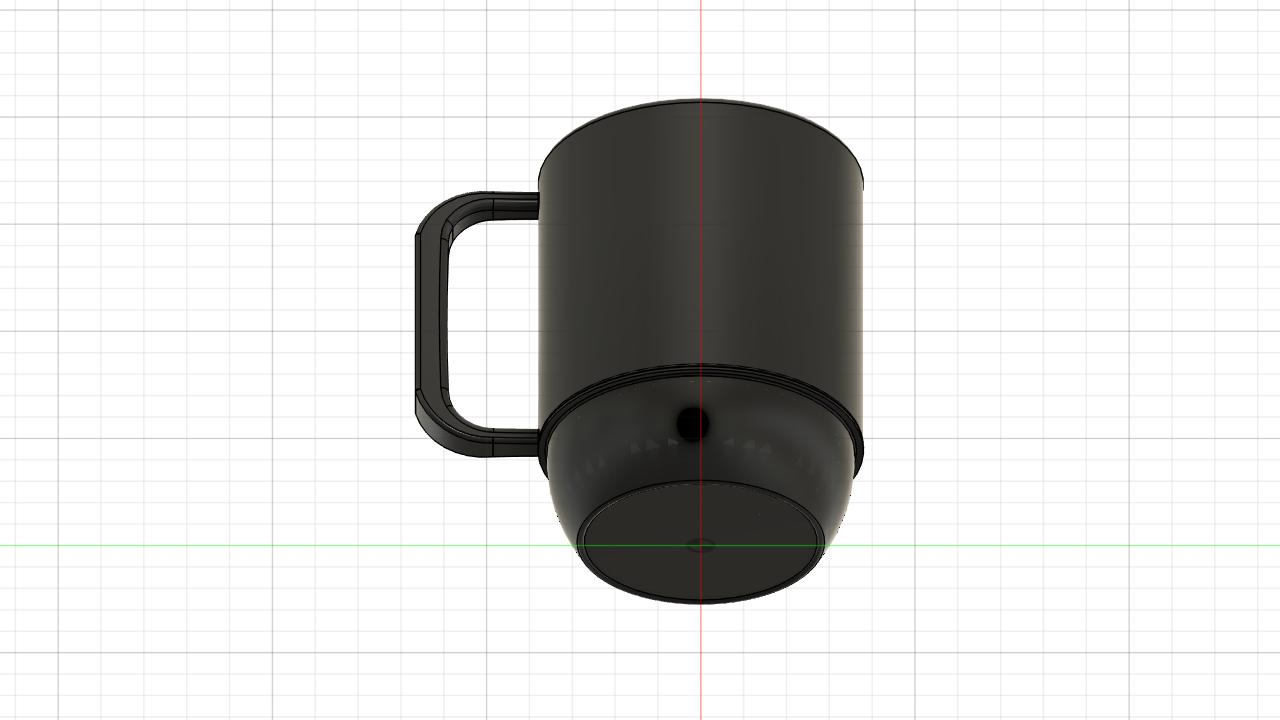mug-real100-3d100: (414, 100, 864, 603)
